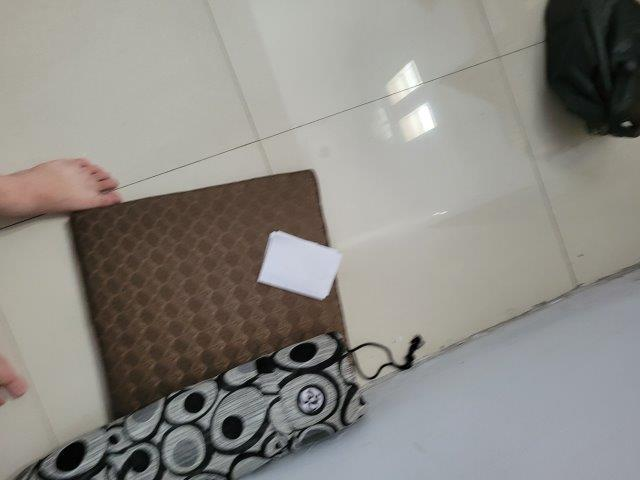kertas: (257, 230, 342, 301)
